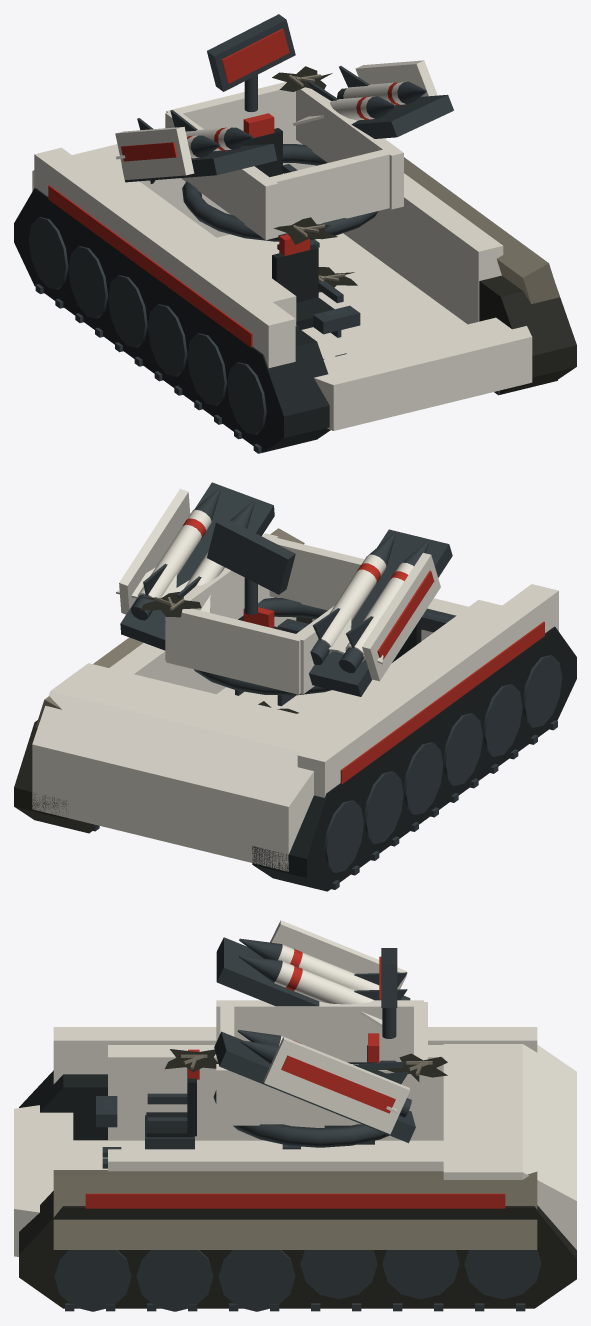
The picture shows the model from 3 angles, top to bottom: view 1: azimuth 30°, elevation 25°; view 2: azimuth 150°, elevation 25°; view 3: azimuth 270°, elevation 25°; orthographic projection. The views are drawn at different scales.
Visible parts, largest first — view 1: aa-tank-damaged-fleet-armor, turret-fleet-armor, aa-tank-damaged-fleet-rubber, aa-tank-damaged-fleet-machine, aa-tank-damaged-fleet-damage-charred, aa-tank-damaged-fleet-damage-metal, crew-chair-driver-painted, aa-tank-damaged-fleet-red, launcher-left-fleet-armor, launcher-right-fleet-machine, radar-fleet-machine, launcher-left-fleet-machine (+10 smaller); view 2: aa-tank-damaged-fleet-armor, aa-tank-damaged-fleet-machine, turret-fleet-armor, aa-tank-damaged-fleet-rubber, launcher-left-fleet-machine, radar-fleet-machine, launcher-right-fleet-machine, aa-tank-damaged-fleet-red, launcher-left-fleet-armor, aa-tank-damaged-fleet-damage-charred, launcher-right-fleet-armor, loaded-missile-1-0.2-fleet-armor (+10 smaller); view 3: aa-tank-damaged-fleet-armor, aa-tank-damaged-fleet-damage-metal, aa-tank-damaged-fleet-machine, aa-tank-damaged-fleet-damage-charred, turret-fleet-armor, aa-tank-damaged-fleet-red, launcher-right-fleet-armor, crew-chair-driver-painted, aa-tank-damaged-fleet-rubber, launcher-left-fleet-machine, launcher-left-fleet-armor, launcher-right-fleet-machine (+9 smaller).
Part boxes in pixels (box(x1,y1,x2,y2)): aa-tank-damaged-fleet-armor: box(32, 139, 532, 430); turret-fleet-armor: box(165, 82, 403, 239); aa-tank-damaged-fleet-rubber: box(14, 188, 330, 452); aa-tank-damaged-fleet-machine: box(28, 144, 557, 453); aa-tank-damaged-fleet-damage-charred: box(272, 66, 576, 394); aa-tank-damaged-fleet-damage-metal: box(289, 74, 559, 303); crew-chair-driver-painted: box(272, 234, 360, 359); aa-tank-damaged-fleet-red: box(48, 185, 252, 347); launcher-left-fleet-armor: box(115, 126, 194, 180); launcher-right-fleet-machine: box(351, 94, 453, 138); radar-fleet-machine: box(207, 14, 295, 91); launcher-left-fleet-machine: box(122, 143, 277, 182); aa-tank-damaged-fleet-armor: box(32, 584, 558, 871); aa-tank-damaged-fleet-machine: box(93, 597, 562, 889); turret-fleet-armor: box(165, 533, 364, 694); aa-tank-damaged-fleet-rubber: box(252, 626, 576, 891); launcher-left-fleet-machine: box(309, 529, 452, 696); radar-fleet-machine: box(207, 517, 295, 594); launcher-right-fleet-machine: box(120, 482, 274, 650); aa-tank-damaged-fleet-red: box(340, 621, 544, 783); launcher-left-fleet-armor: box(362, 553, 440, 681); aa-tank-damaged-fleet-damage-charred: box(14, 592, 312, 833); launcher-right-fleet-armor: box(119, 488, 190, 614); loaded-missile-1-0.2-fleet-armor: box(116, 510, 211, 598); aa-tank-damaged-fleet-armor: box(14, 1027, 576, 1256); aa-tank-damaged-fleet-damage-metal: box(53, 1054, 537, 1249); aa-tank-damaged-fleet-machine: box(54, 1060, 541, 1311); aa-tank-damaged-fleet-damage-charred: box(19, 1049, 576, 1308); turret-fleet-armor: box(216, 1000, 427, 1125); aa-tank-damaged-fleet-red: box(85, 1193, 505, 1208); launcher-right-fleet-armor: box(263, 1037, 410, 1134); crew-chair-driver-painted: box(96, 1049, 199, 1168); aa-tank-damaged-fleet-rubber: box(19, 1070, 107, 1140); launcher-left-fleet-machine: box(216, 937, 319, 1006); launcher-left-fleet-armor: box(270, 920, 406, 989); launcher-right-fleet-machine: box(214, 1031, 415, 1143).
Size of the model in its own units: 21.7 by 19.02 by 33.68.
